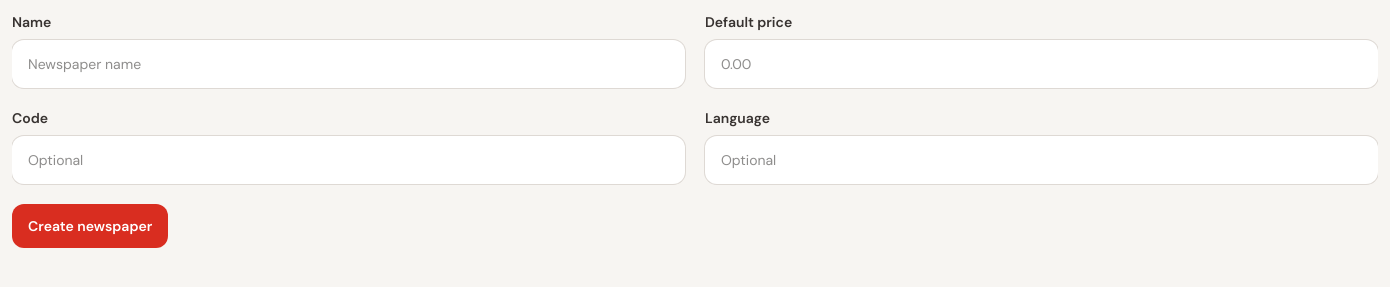
Test case: Phase 11 newspaper management › validates a default price below 0.01
Type "Daily" into the field labelled "Name".
click(348, 64); type("Daily")  # box [12,40,685,88]
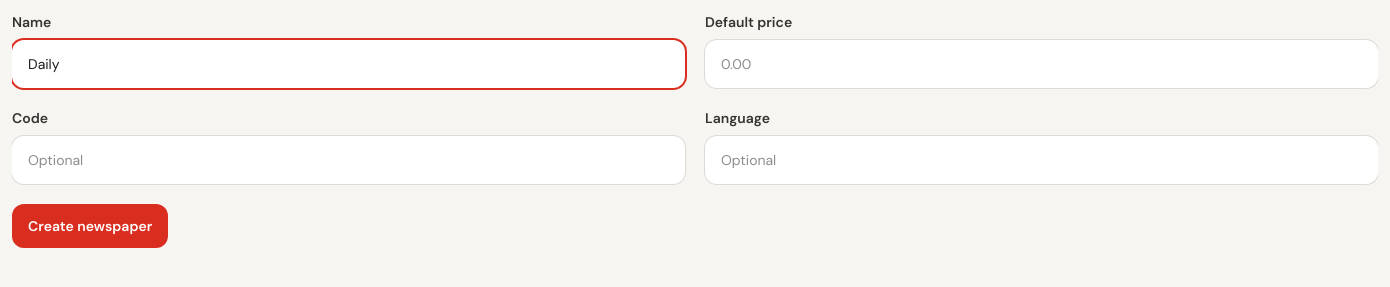
Type "0" into the number field labelled "Default price".
click(1042, 64); type("0")  # box [705,40,1378,88]
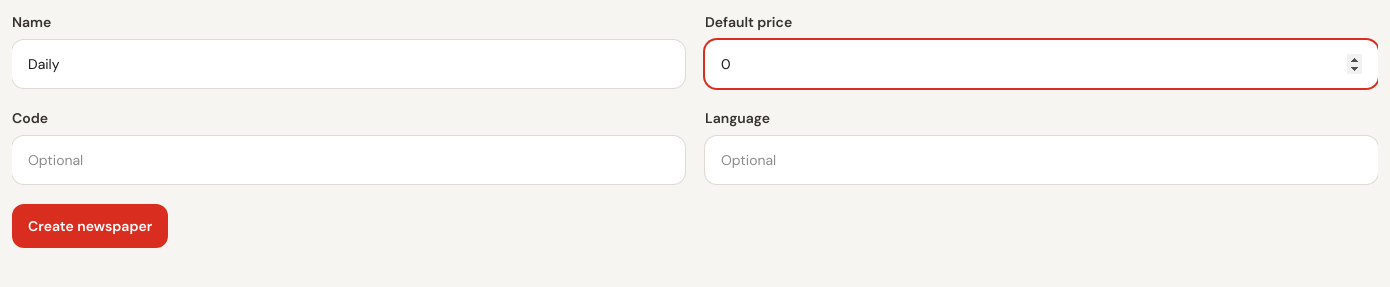
Click the button "Create newspaper".
click(90, 226)  # box [12,204,168,248]
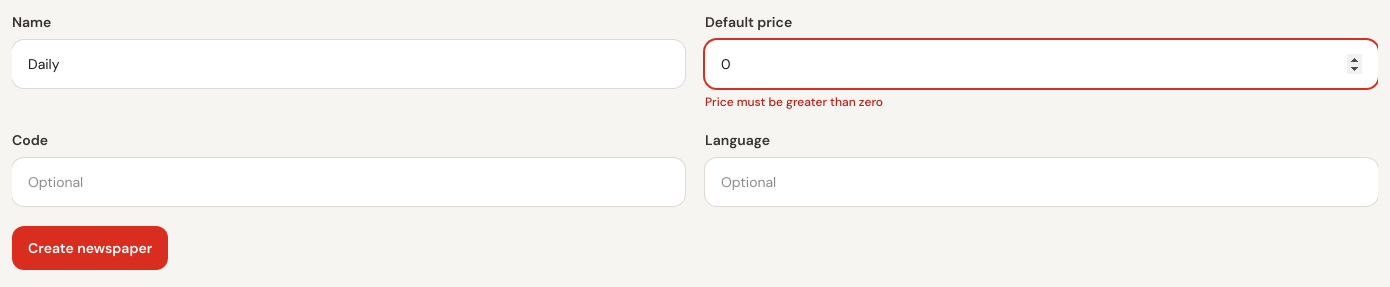
Check: the text "Price must be greater than zero" is shown, box [705,94,883,110]
